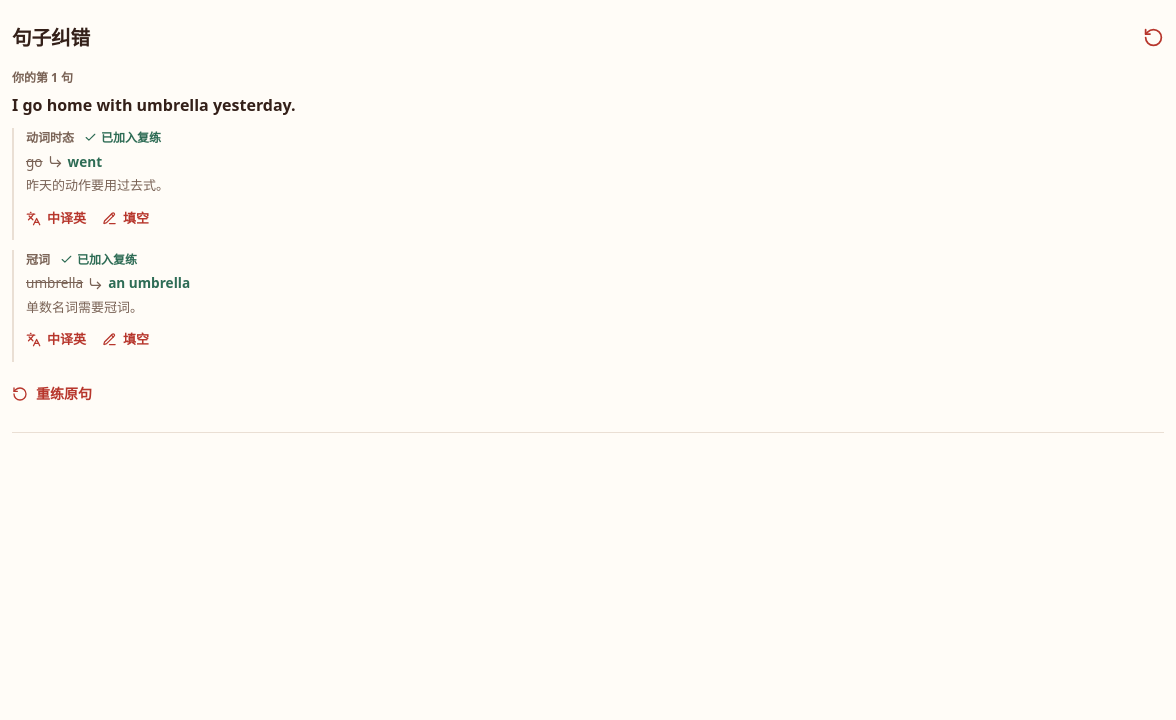
blanks the selected edit in the corrected sentence and allows keyboard retry and escape
Click the button "填空" below "单数名词需要冠词。" at (126, 340), box [102, 318, 149, 362]
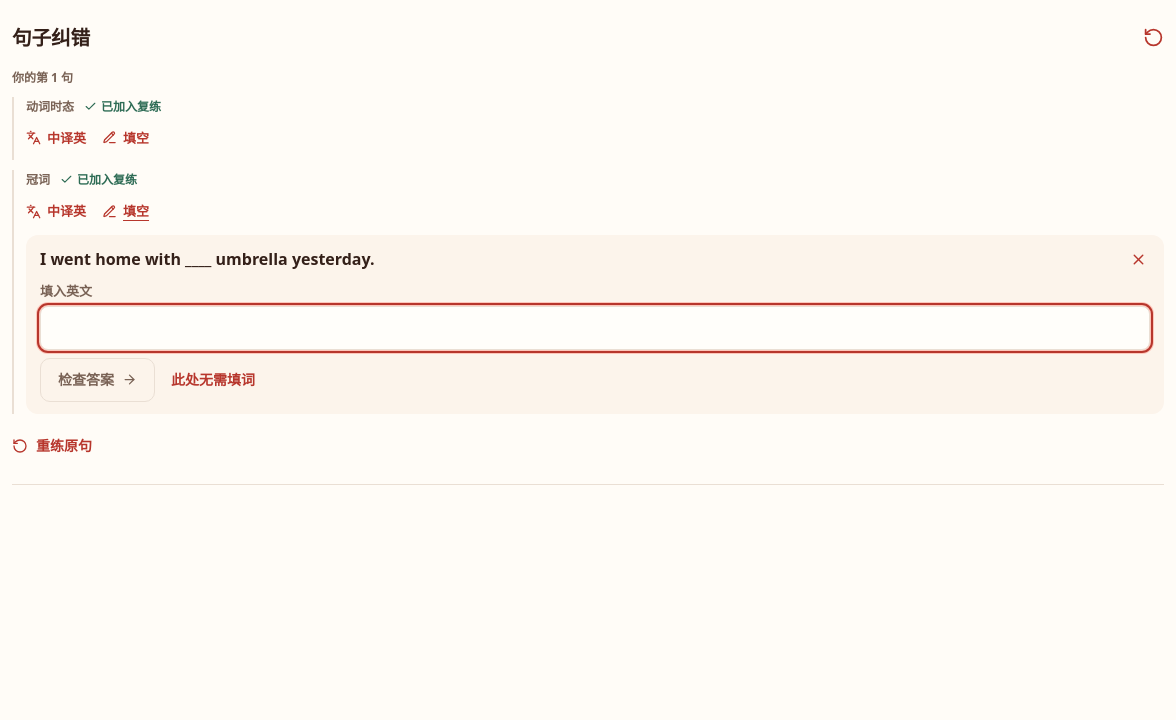
Now the text "I went home with ____ umbrella yesterday." is shown, box [40, 248, 375, 270]
Now the text "单数名词需要冠词。" is gone
Type "a" into the field labelled "填入英文" at (595, 328), box [40, 306, 1150, 350]
Then press Enter
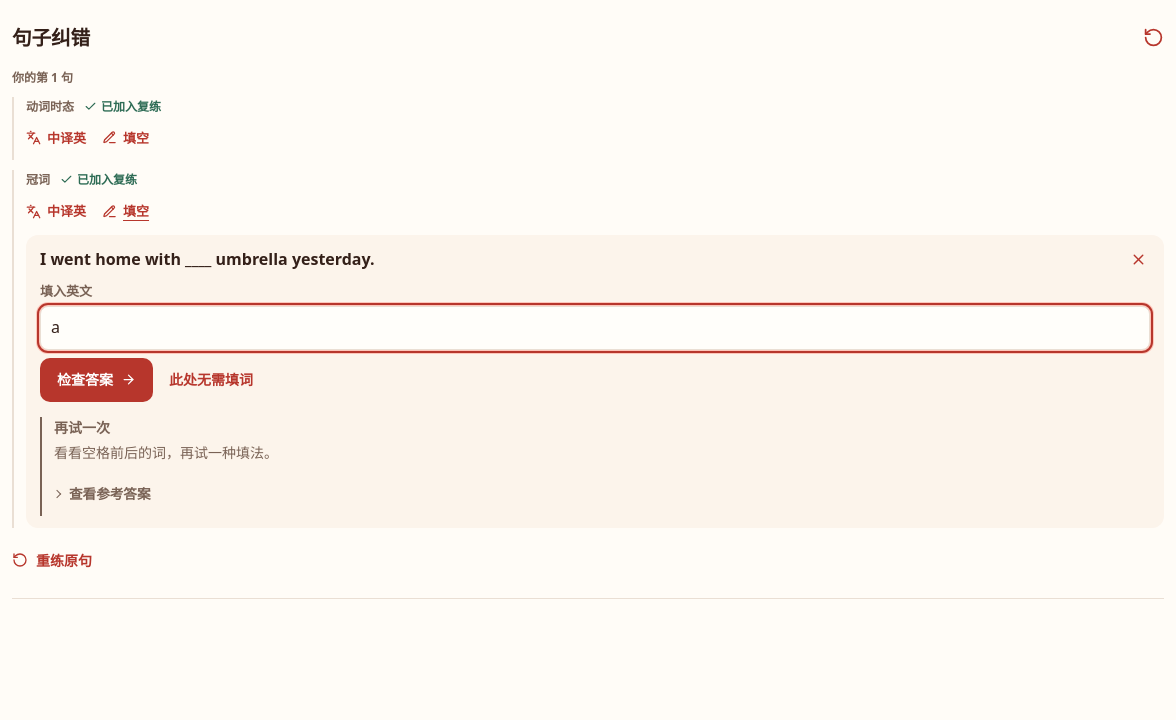
Now the message shows "再试一次", box [54, 418, 110, 436]
Replace the text in the field labelled "填入英文" with "AN" at (595, 328), box [40, 306, 1150, 350]
Then press Enter
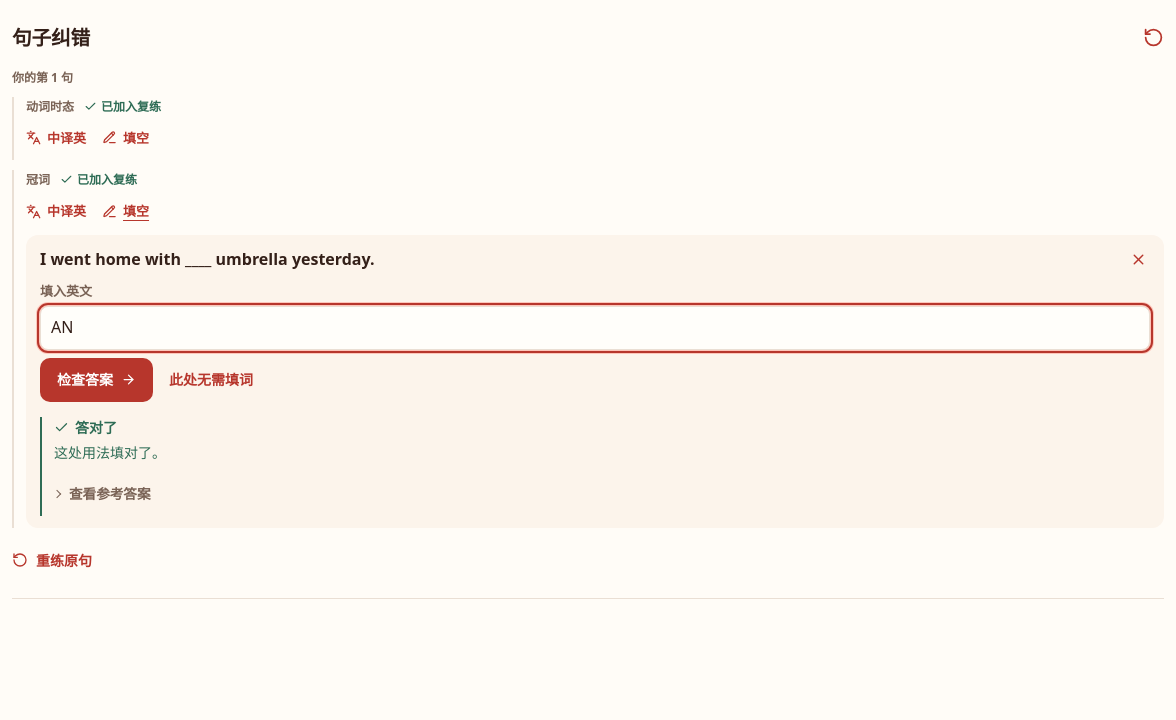
Now the message shows "答对了", box [75, 418, 117, 436]
Press Escape
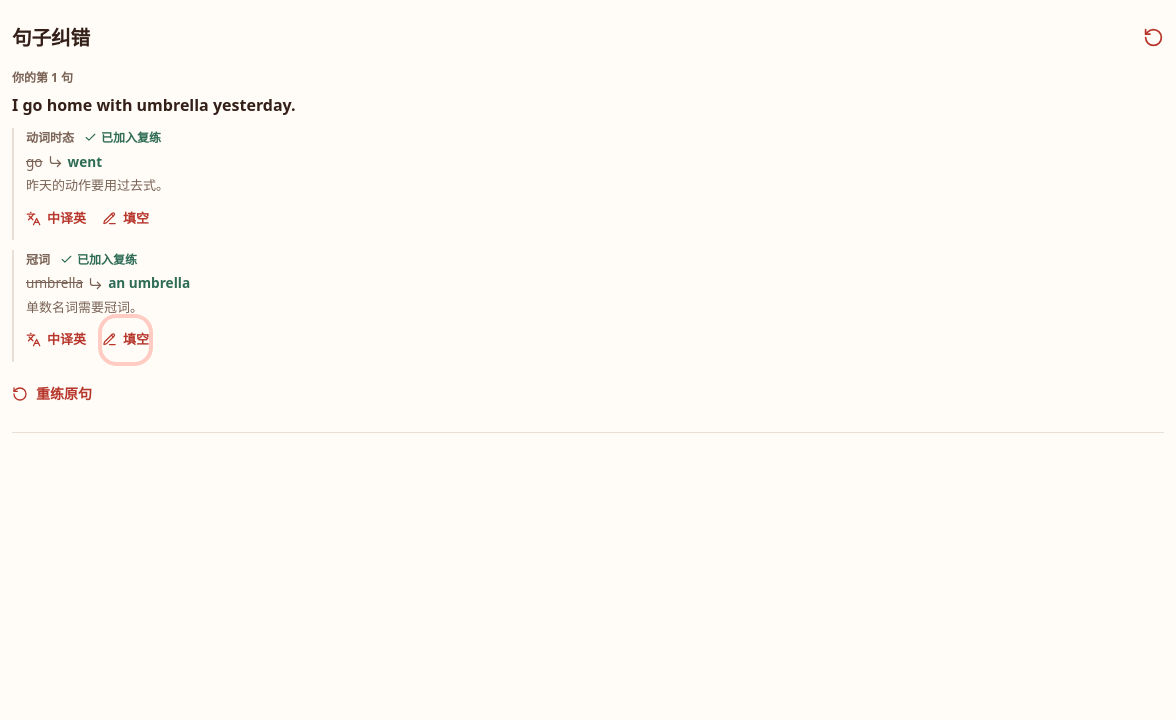
Expected: the button "重练原句" is shown, [12, 372, 92, 416]
Now the element "填空练习" is gone
